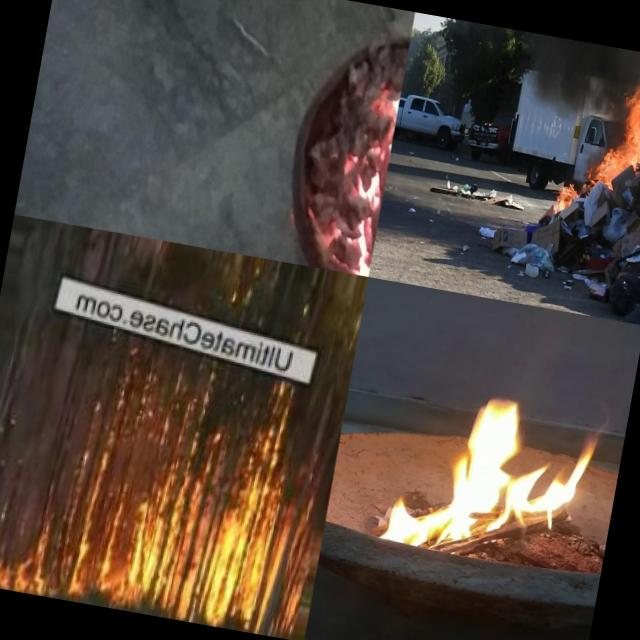fire: (1, 434, 315, 639), (368, 368, 623, 581), (322, 55, 406, 276), (590, 51, 640, 210), (544, 166, 583, 226)
smoke: (503, 39, 640, 139)
